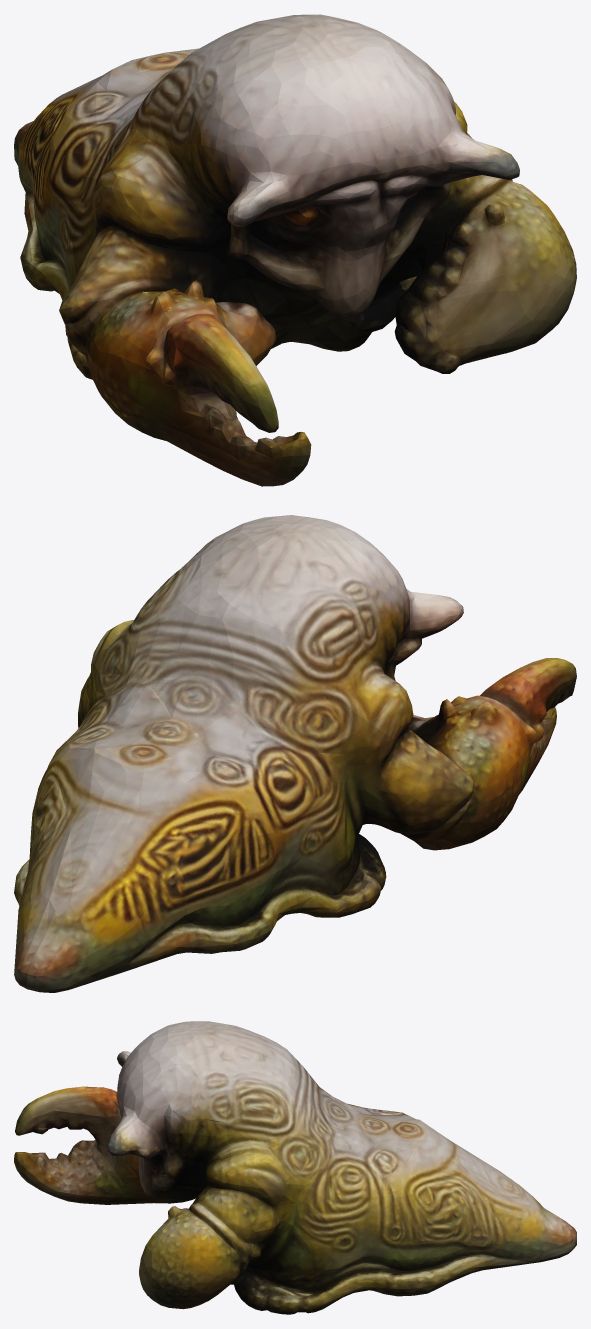
Rendered from pipeSlug.glb.
3 views of the same model, one above another, from view 1: azimuth 30°, elevation 25°; view 2: azimuth 150°, elevation 25°; view 3: azimuth 270°, elevation 25° (orthographic). The views are drawn at different scales.
Visible parts, largest first — view 1: world; view 2: world; view 3: world.
Part boxes in pixels (x1=…): world: x1=14, y1=14, x2=576, y2=486; world: x1=14, y1=515, x2=576, y2=992; world: x1=14, y1=1021, x2=576, y2=1314.
Size of the model in its own units: 0.6281 by 0.4536 by 0.9994.
1 material, 1 textured.
